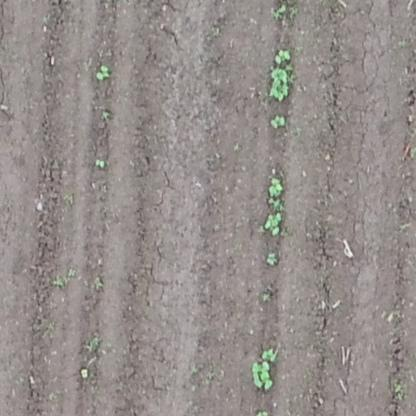vc: (267, 66, 293, 100), (260, 210, 285, 241), (251, 362, 275, 394), (266, 173, 287, 197), (270, 47, 297, 64), (268, 112, 286, 131), (266, 250, 282, 269), (95, 64, 110, 80), (262, 346, 282, 357), (96, 155, 107, 169)
